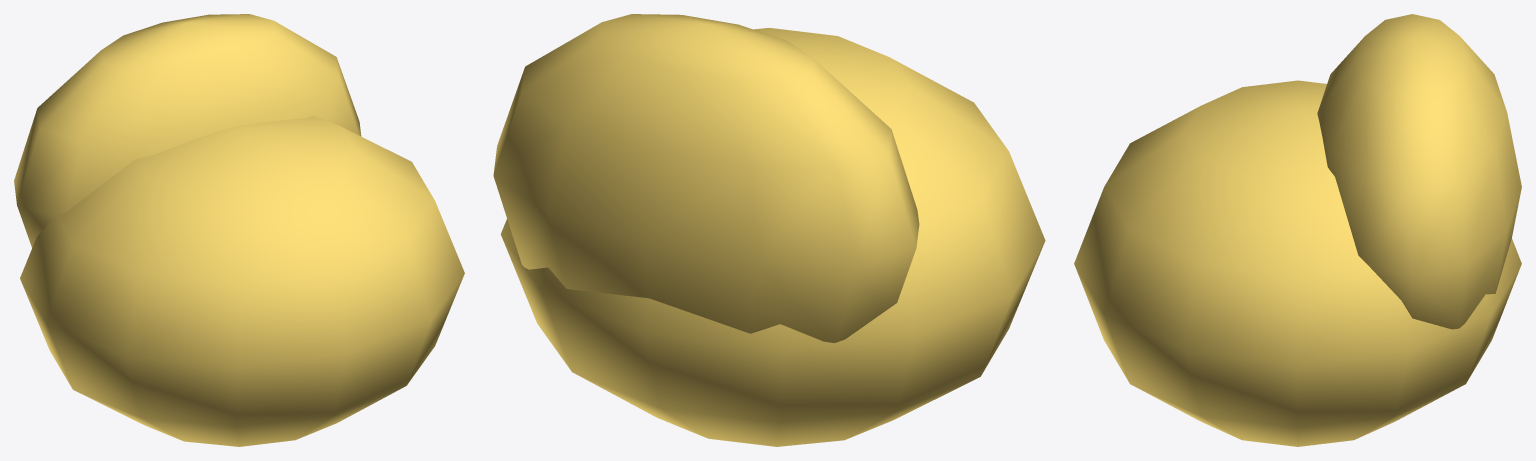
3 views of the same model, side by side, from view 1: azimuth 30°, elevation 25°; view 2: azimuth 150°, elevation 25°; view 3: azimuth 270°, elevation 25° (orthographic). The views are drawn at different scales.
Visible parts, largest first — view 1: Beanbag shell, Back bolster; view 2: Back bolster, Beanbag shell; view 3: Beanbag shell, Back bolster.
Part boxes in pixels (x1,y1,x2,y2): Beanbag shell: (20, 115, 464, 446); Back bolster: (14, 14, 361, 247); Back bolster: (493, 14, 919, 342); Beanbag shell: (500, 27, 1045, 446); Beanbag shell: (1074, 80, 1521, 446); Back bolster: (1317, 14, 1521, 329).
Size of the model in its own units: 96 by 84 by 90.
